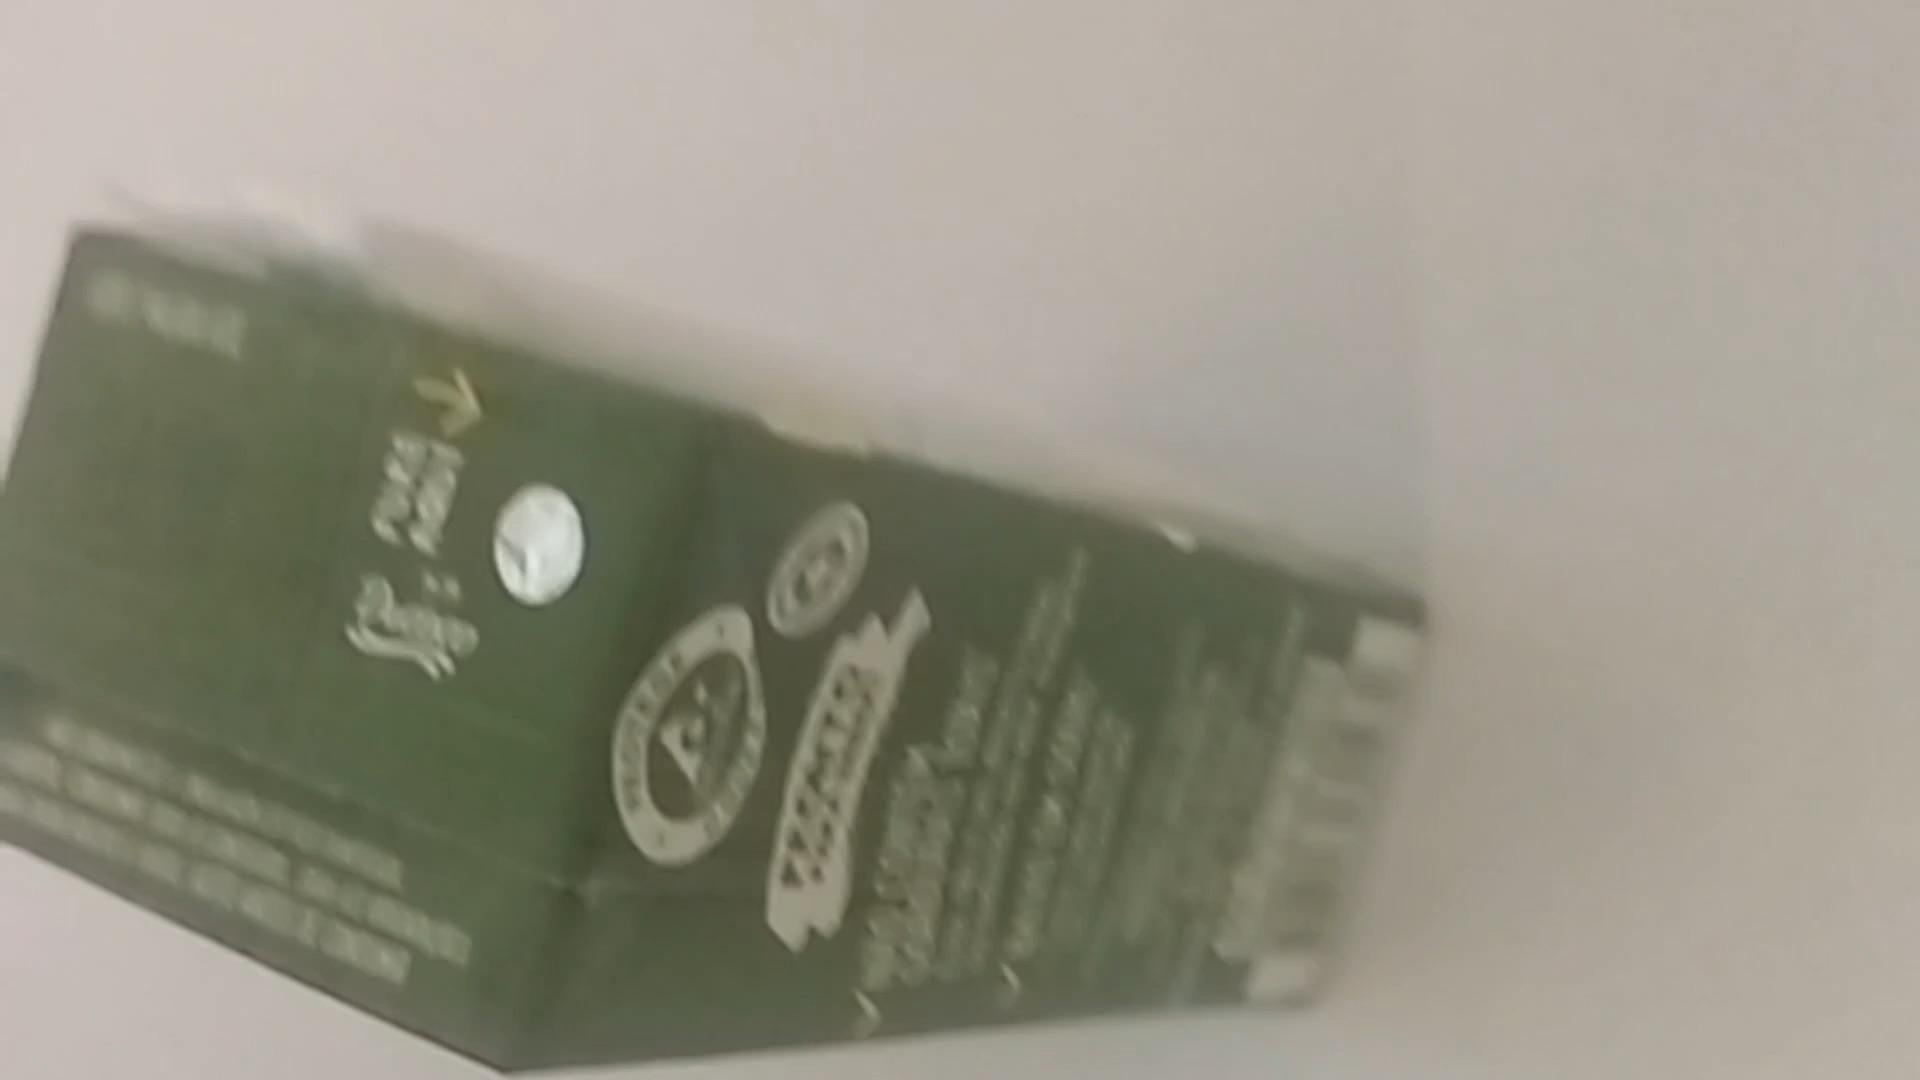coco: (5, 225, 1452, 1075)
